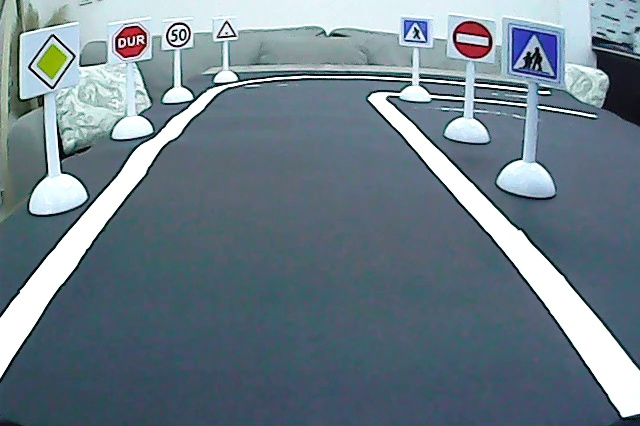do not enter: (452, 18, 494, 62)
green light: (214, 18, 239, 40)
pedestrian crossing: (401, 18, 430, 45)
school crossing: (505, 21, 560, 82)
speed limit 50: (165, 20, 192, 51)
stop sign: (110, 20, 149, 62)
